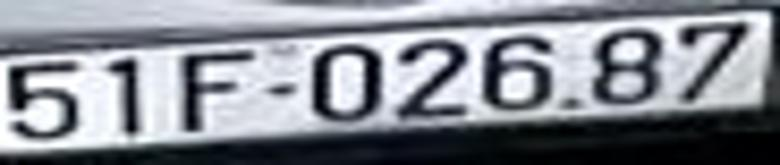-: (266, 85, 294, 97)
.: (564, 99, 577, 111)
0: (311, 44, 380, 119)
1: (109, 61, 141, 137)
2: (399, 39, 467, 114)
5: (9, 65, 78, 138)
6: (484, 36, 552, 107)
7: (681, 24, 750, 103)
8: (598, 30, 660, 102)
F: (181, 55, 250, 135)
